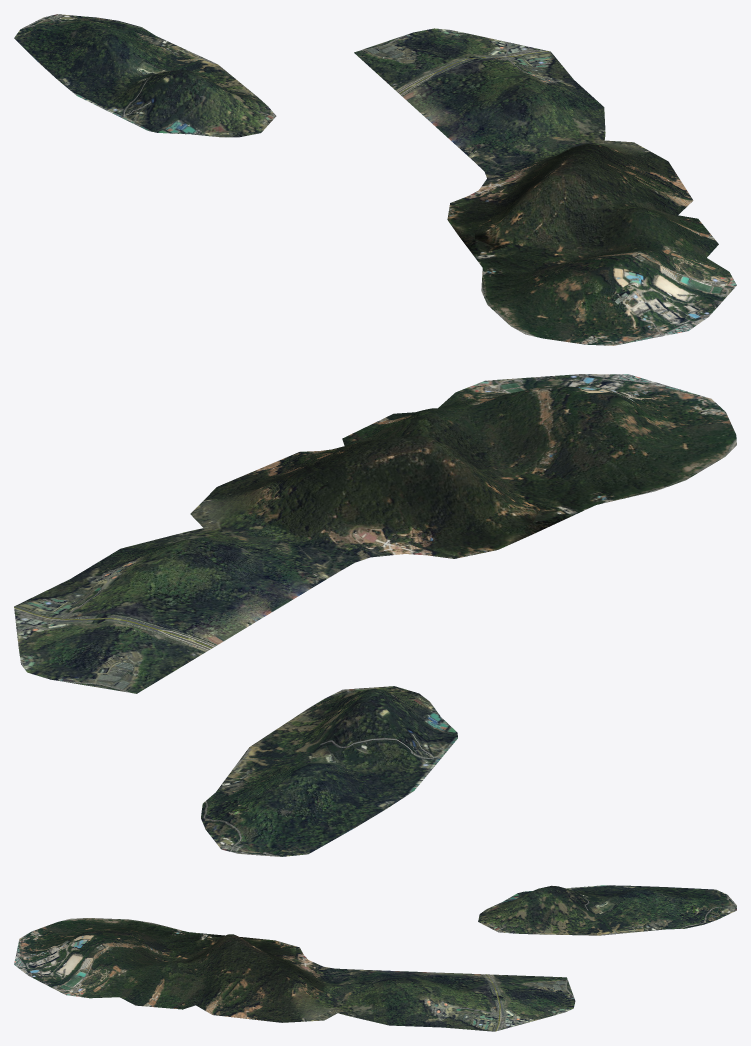
Rendered from mountain.fbx.
3 views of the same model, one above another, from view 1: azimuth 30°, elevation 25°; view 2: azimuth 150°, elevation 25°; view 3: azimuth 270°, elevation 25° (orthographic). The views are drawn at different scales.
Visible parts, largest first — view 1: mountain; view 2: mountain; view 3: mountain.
Part boxes in pixels (bbox=[...]): mountain: bbox=[14, 14, 736, 345]; mountain: bbox=[14, 374, 736, 856]; mountain: bbox=[14, 885, 736, 1031].
Size of the model in its own units: 26069 by 2906 by 54367.
